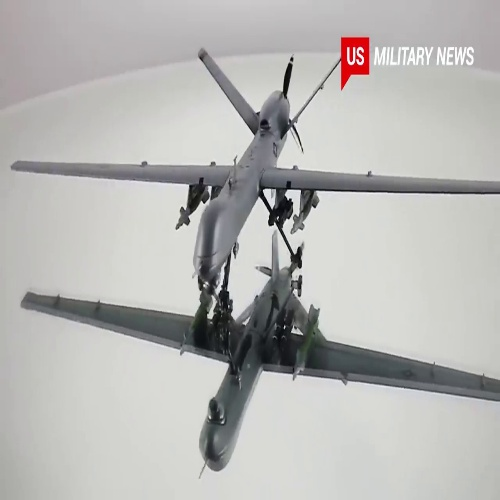uav: (6, 44, 500, 285), (20, 233, 496, 479)
